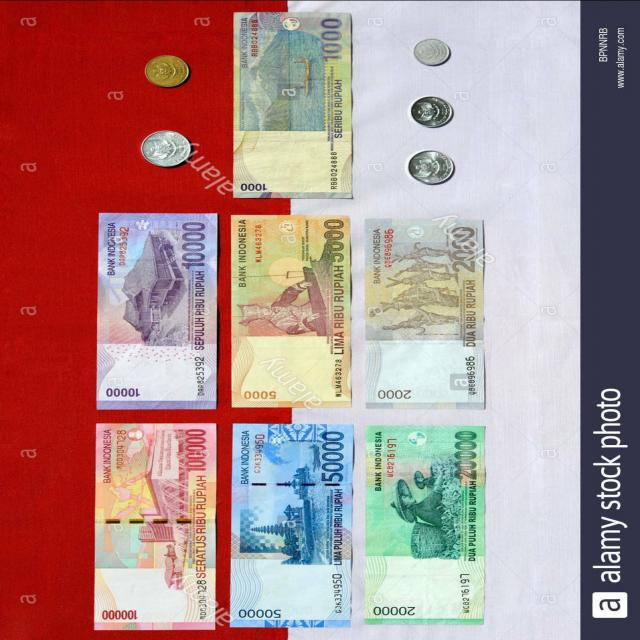1000IndonesianRupiah: (230, 12, 360, 194)
